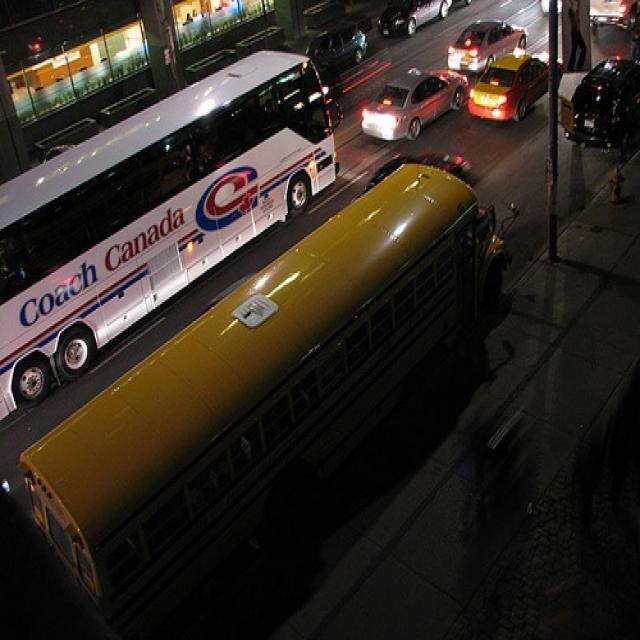bus: (11, 161, 514, 638), (1, 41, 339, 422)
car: (358, 65, 464, 142), (564, 53, 638, 157), (467, 48, 565, 124), (448, 17, 526, 75), (300, 24, 371, 77), (378, 2, 448, 41)
fire_hydrant: (604, 162, 626, 203)
pole: (540, 0, 563, 256)
